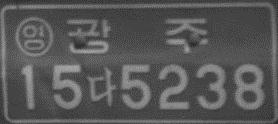1: (13, 64, 45, 110)
2: (157, 63, 190, 110)
3: (195, 63, 228, 111)
5: (120, 64, 154, 110), (51, 64, 84, 110)
8: (233, 63, 265, 110)
광주_D: (65, 17, 210, 54)
다: (86, 66, 117, 108)
영: (14, 16, 54, 57)
